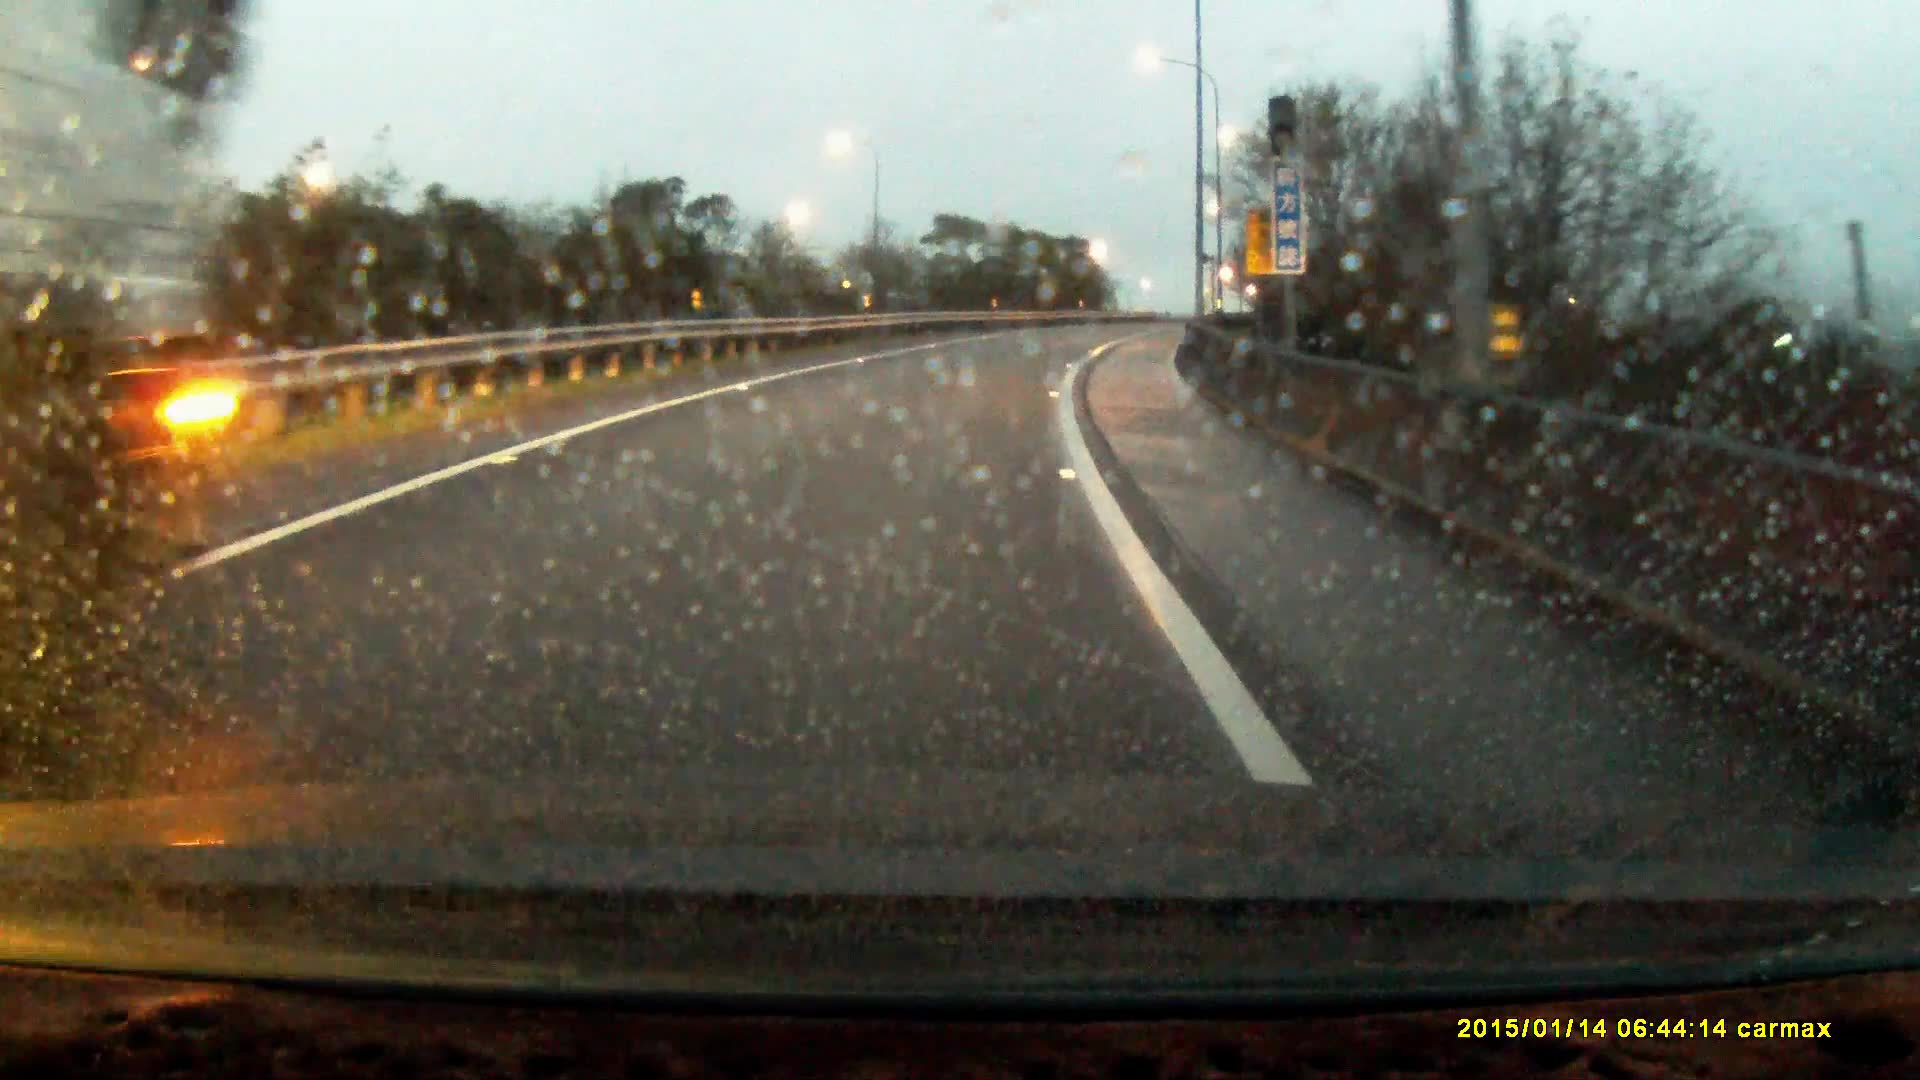vehicle: (1, 1, 237, 647)
